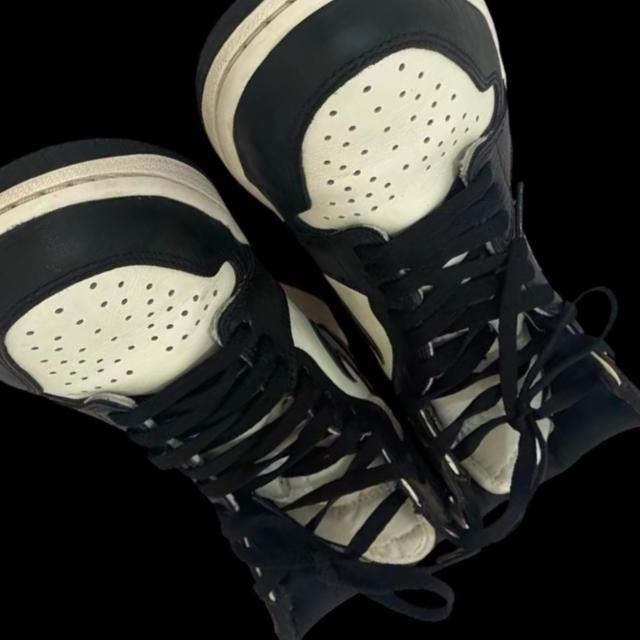nike original jordan 1: (0, 38, 515, 640), (113, 0, 640, 571)
